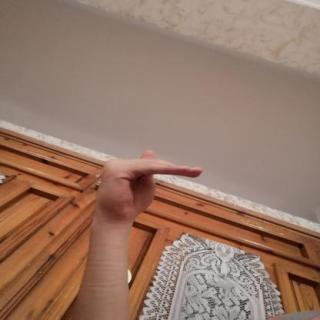KHAA: (90, 144, 218, 227)
